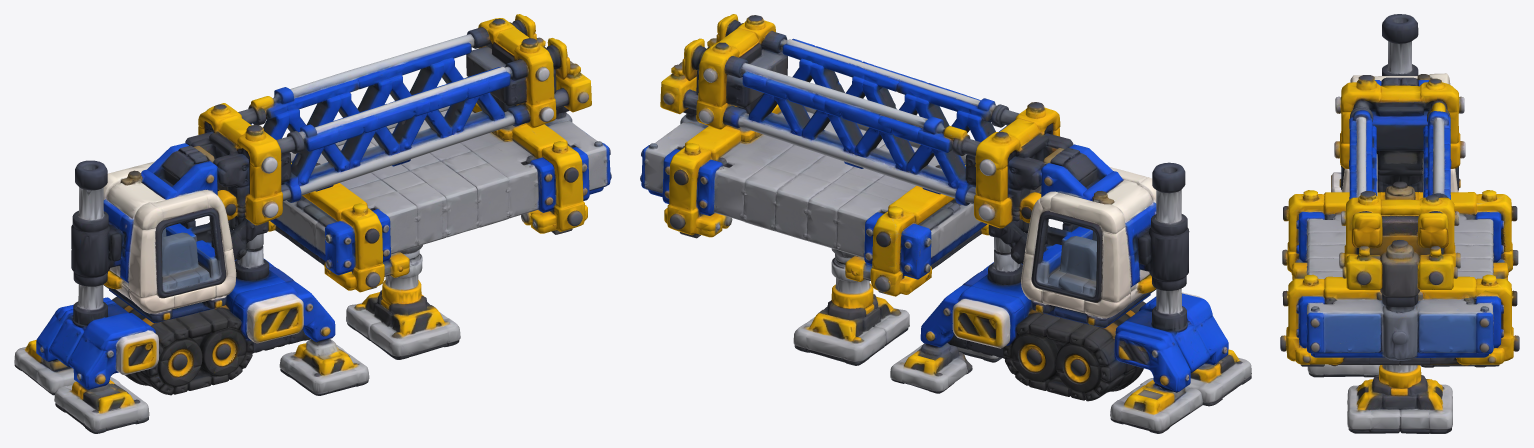
Rendered from supplied-bridge_launcher.glb.
3 views of the same model, side by side, from view 1: azimuth 30°, elevation 25°; view 2: azimuth 150°, elevation 25°; view 3: azimuth 270°, elevation 25° (orthographic).
Parts seen in each view (by area): view 1: tripo_part_0, tripo_part_1, tripo_part_4, tripo_part_13, tripo_part_6, tripo_part_15, tripo_part_12, tripo_part_29, tripo_part_8, tripo_part_11, tripo_part_31, tripo_part_18 (+31 smaller); view 2: tripo_part_0, tripo_part_1, tripo_part_12, tripo_part_29, tripo_part_13, tripo_part_6, tripo_part_4, tripo_part_28, tripo_part_5, tripo_part_14, tripo_part_11, tripo_part_15 (+31 smaller); view 3: tripo_part_2, tripo_part_6, tripo_part_11, tripo_part_22, tripo_part_0, tripo_part_21, tripo_part_4, tripo_part_33, tripo_part_42, tripo_part_15, tripo_part_29, tripo_part_13 (+21 smaller).
Part boxes in pixels (x1,y1,x2,y2): tripo_part_0: (317, 110, 538, 254); tripo_part_1: (103, 161, 236, 323); tripo_part_4: (198, 103, 514, 225); tripo_part_13: (70, 160, 124, 327); tripo_part_6: (467, 14, 570, 128); tripo_part_15: (276, 66, 512, 154); tripo_part_12: (36, 297, 155, 389); tripo_part_29: (238, 34, 474, 125); tripo_part_8: (155, 207, 226, 298); tripo_part_11: (346, 292, 460, 359); tripo_part_31: (54, 377, 149, 433); tripo_part_18: (279, 339, 369, 395); tripo_part_0: (714, 112, 939, 257); tripo_part_1: (1021, 167, 1156, 327); tripo_part_12: (1114, 293, 1228, 392); tripo_part_29: (741, 63, 980, 156); tripo_part_13: (1135, 162, 1189, 332); tripo_part_6: (682, 14, 787, 129); tripo_part_4: (804, 102, 1060, 228); tripo_part_28: (1003, 301, 1145, 401); tripo_part_5: (723, 105, 975, 205); tripo_part_14: (1031, 210, 1103, 302); tripo_part_11: (793, 296, 909, 365); tripo_part_15: (779, 38, 1019, 127); tripo_part_2: (1280, 274, 1519, 366); tripo_part_6: (1339, 191, 1460, 268); tripo_part_11: (1347, 379, 1452, 433); tripo_part_22: (1414, 294, 1493, 357); tripo_part_0: (1306, 214, 1493, 279); tripo_part_21: (1306, 299, 1385, 357); tripo_part_4: (1334, 75, 1465, 196); tripo_part_33: (1380, 240, 1419, 360); tripo_part_42: (1372, 101, 1427, 150); tripo_part_15: (1349, 100, 1373, 199); tripo_part_29: (1427, 100, 1450, 199); tripo_part_13: (1382, 14, 1418, 75).
Bounding box in the file's own units: 0.979 × 0.5037 × 0.3885.
Materials: 73 (73 with a texture image).
